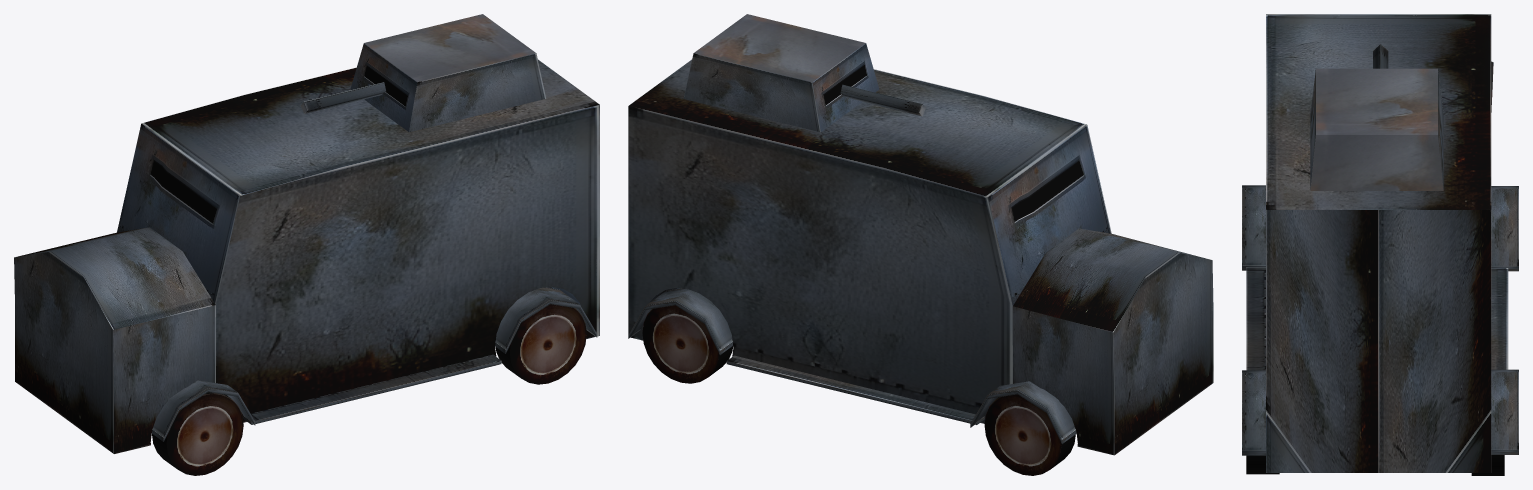
File: van.gltf
3 renders of one model, left to right at view 1: azimuth 30°, elevation 25°; view 2: azimuth 150°, elevation 25°; view 3: azimuth 270°, elevation 25°, orthographic. The views are drawn at different scales.
Parts seen in each view (by area): view 1: van_atomic0; view 2: van_atomic0; view 3: van_atomic0.
Boxes of the visible parts, <box> form: van_atomic0: <box>14,14,599,475</box>; van_atomic0: <box>628,14,1213,475</box>; van_atomic0: <box>1242,14,1518,475</box>.
Bounding box in the file's own units: 24.04 × 14.75 × 10.42.
Materials: 8 (6 with a texture image).
